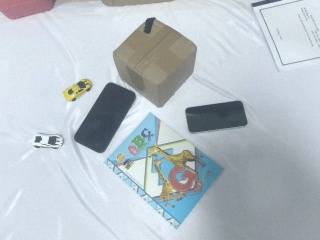book: (101, 110, 227, 233)
box: (112, 16, 197, 109)
phone: (72, 82, 136, 154), (185, 100, 248, 135)
toy_car: (63, 78, 93, 102), (32, 133, 64, 149)
